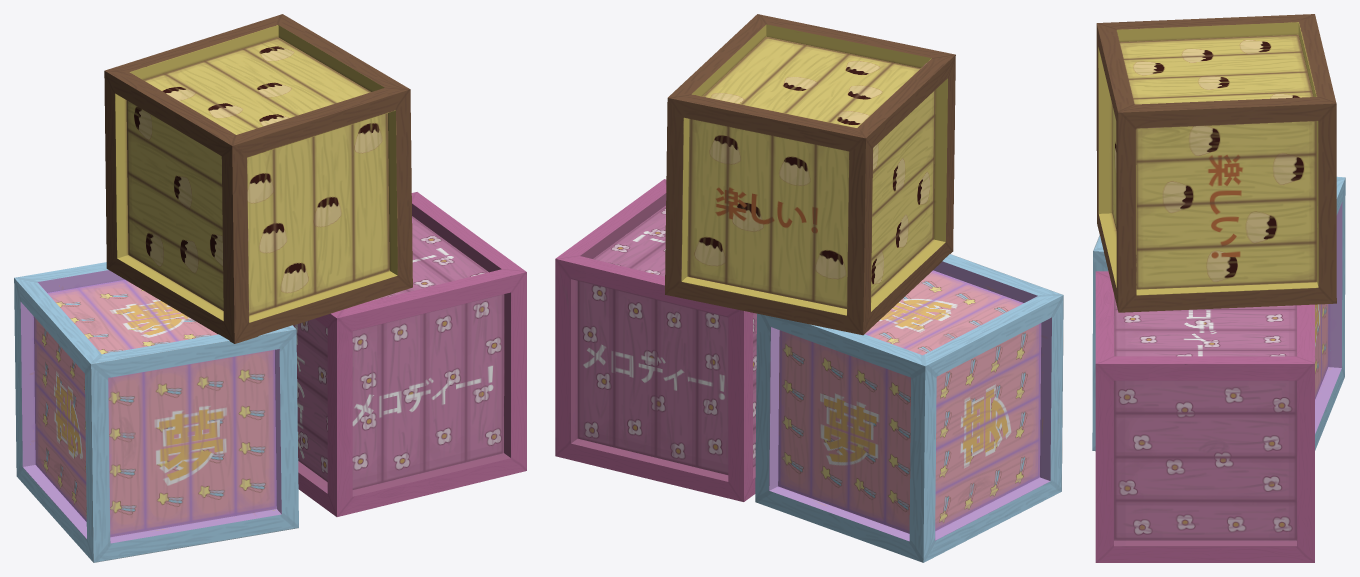
Rendered from CRATE COLOUR Ahbsdfbhjsafbhlafsblhafbhawihafiulhb.fbx.
3 views of the same model, side by side, from view 1: azimuth 30°, elevation 25°; view 2: azimuth 150°, elevation 25°; view 3: azimuth 270°, elevation 25° (orthographic).
Visible parts, largest first — view 1: pasted__pCube14 (×2), pCube14; view 2: pasted__pCube14 (×2), pCube14; view 3: pasted__pCube14 (×2), pCube14.
Boxes of the visible parts, x1,y1,x2,y2 form: pasted__pCube14 (×2): [14, 14, 412, 562]; pCube14: [293, 192, 526, 516]; pasted__pCube14 (×2): [665, 14, 1063, 562]; pCube14: [555, 179, 756, 501]; pasted__pCube14 (×2): [1092, 14, 1345, 451]; pCube14: [1095, 271, 1314, 562].
Bounding box in the file's own units: 52.86 × 48.39 × 27.65.
3 materials, 3 textured.
